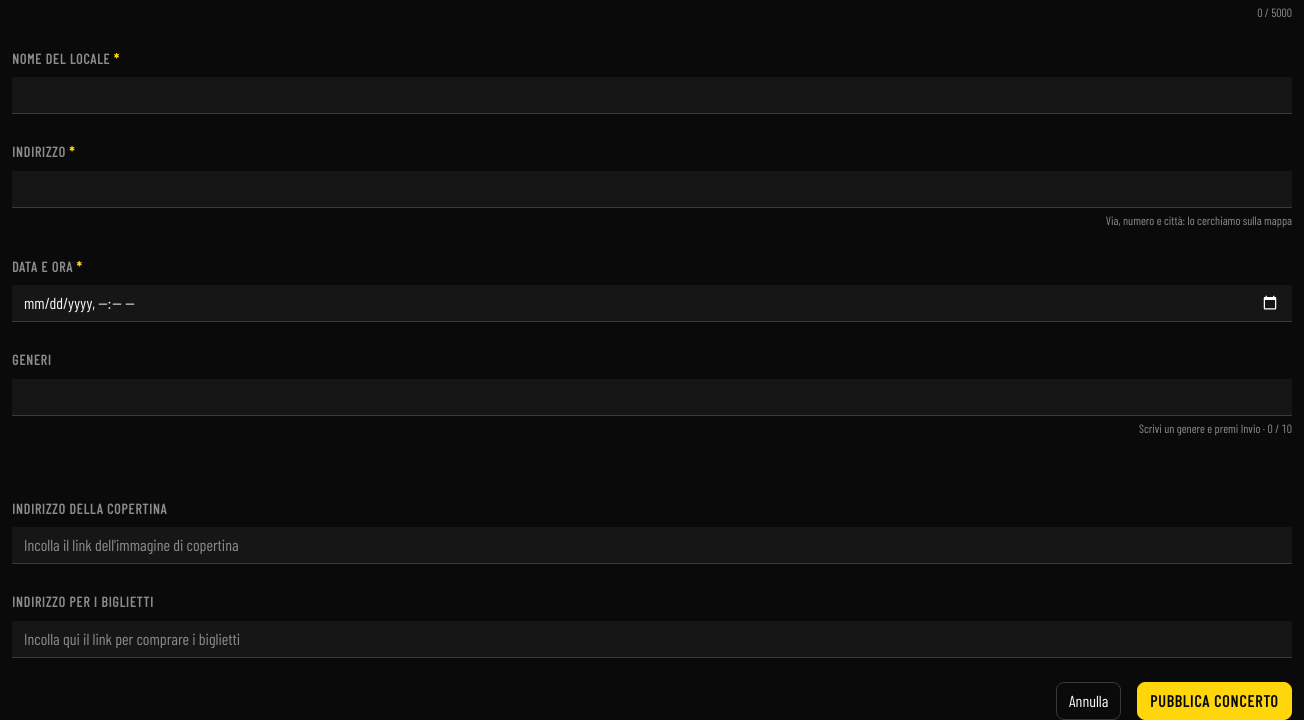
ConcertForm › con i campi vuoti non chiama il server e scrive un messaggio sotto ogni campo obbligatorio
(page scrolled)
Step 1. Click the button "Pubblica concerto" → (1215,700), box [1137,682,1292,719]
(page scrolled)
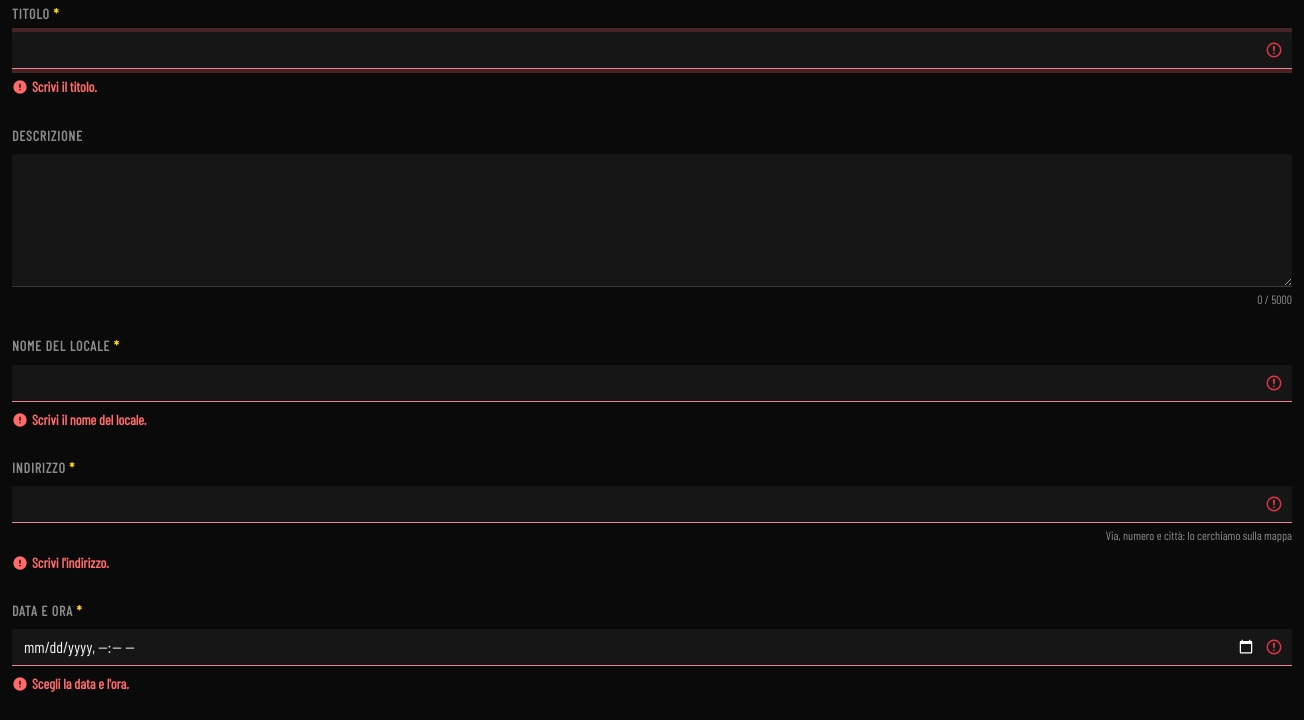
Check: the text "Scrivi il titolo." is shown, box [32,77,97,98]
Check: the text "Scrivi il nome del locale." is shown, box [32,410,146,430]
Check: the text "Scrivi l'indirizzo." is shown, box [32,553,109,573]
